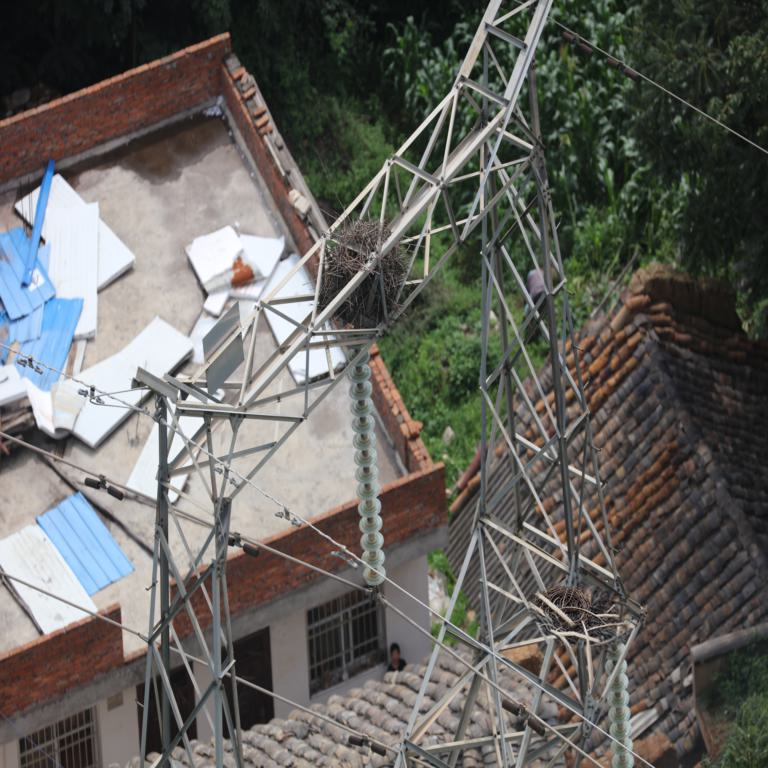nest: (322, 225, 406, 330)
